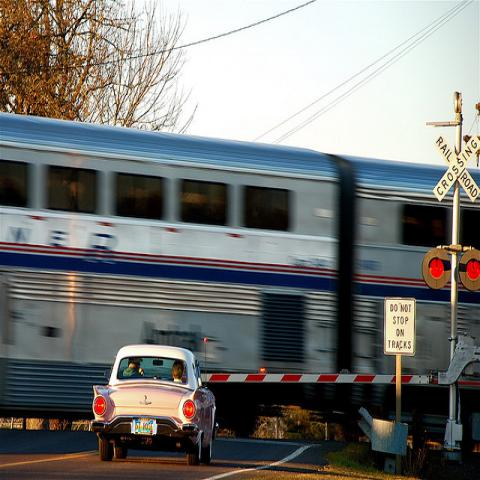car: (91, 344, 218, 465)
